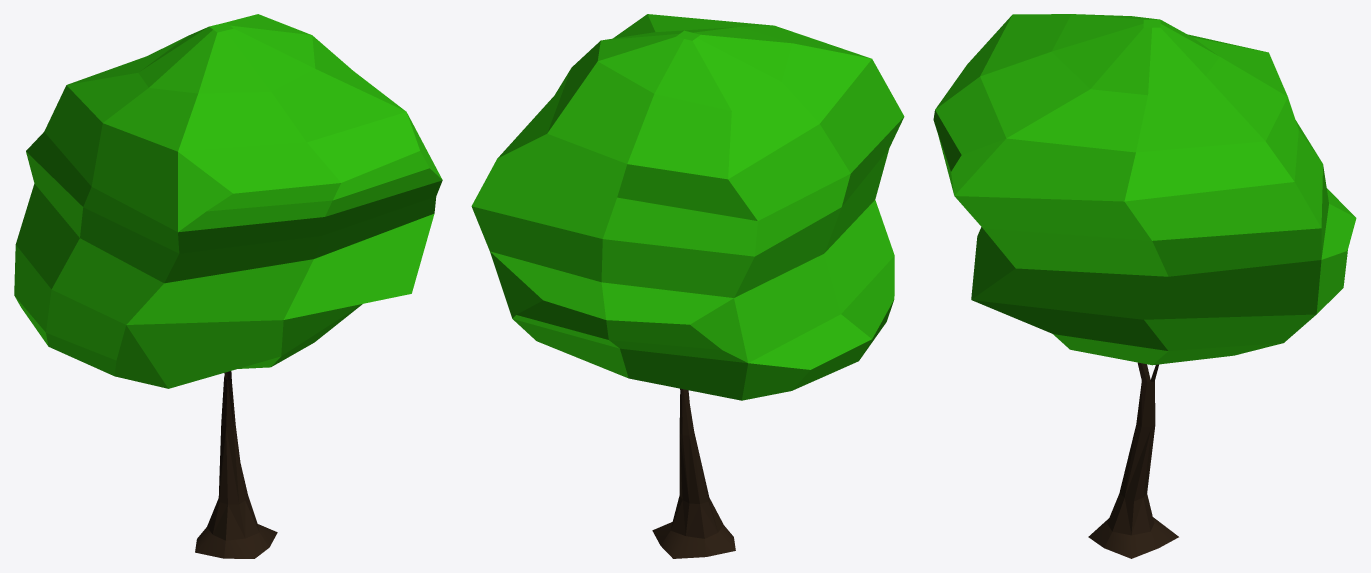
Rendered from Tree 4.FBX.
3 views of the same model, side by side, from view 1: azimuth 30°, elevation 25°; view 2: azimuth 150°, elevation 25°; view 3: azimuth 270°, elevation 25° (orthographic).
Parts seen in each view (by area): view 1: Box002, Box001; view 2: Box002, Box001; view 3: Box002, Box001.
Boxes of the visible parts, x1,y1,x2,y2 form: Box002: (14,14,442,388); Box001: (195,371,277,558); Box002: (471,14,904,400); Box001: (652,388,735,558); Box002: (933,14,1356,365); Box001: (1088,362,1178,558).
Size of the model in its own units: 181 by 262 by 196.
